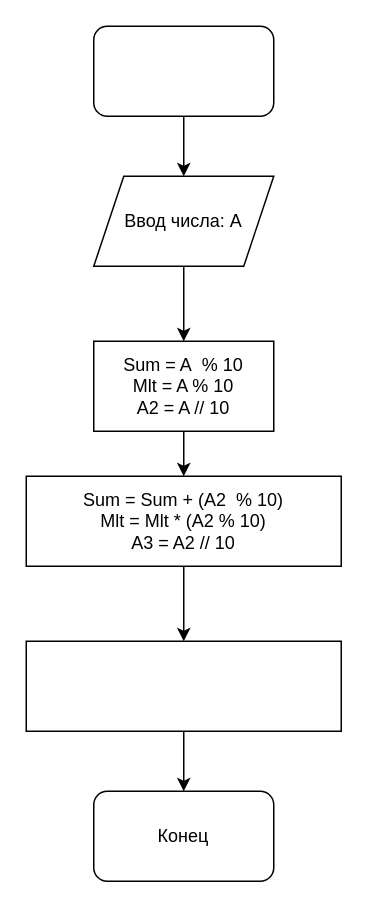
Some shapes in this 368 by 908 pixel diagram are drawn without their labels. The shapes that lost their labels are listed below. From the top down, each one's centre as x and y in pixels, then its label:
[183,70]: Начало
[183,685]: Sum = Sum + A3 Mlt = Mlt * A3
